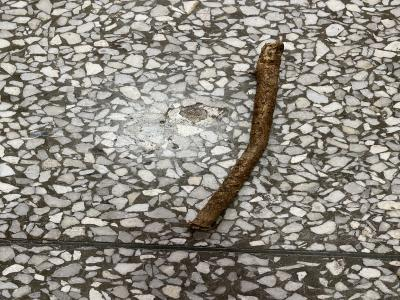Root: (188, 38, 284, 227)
